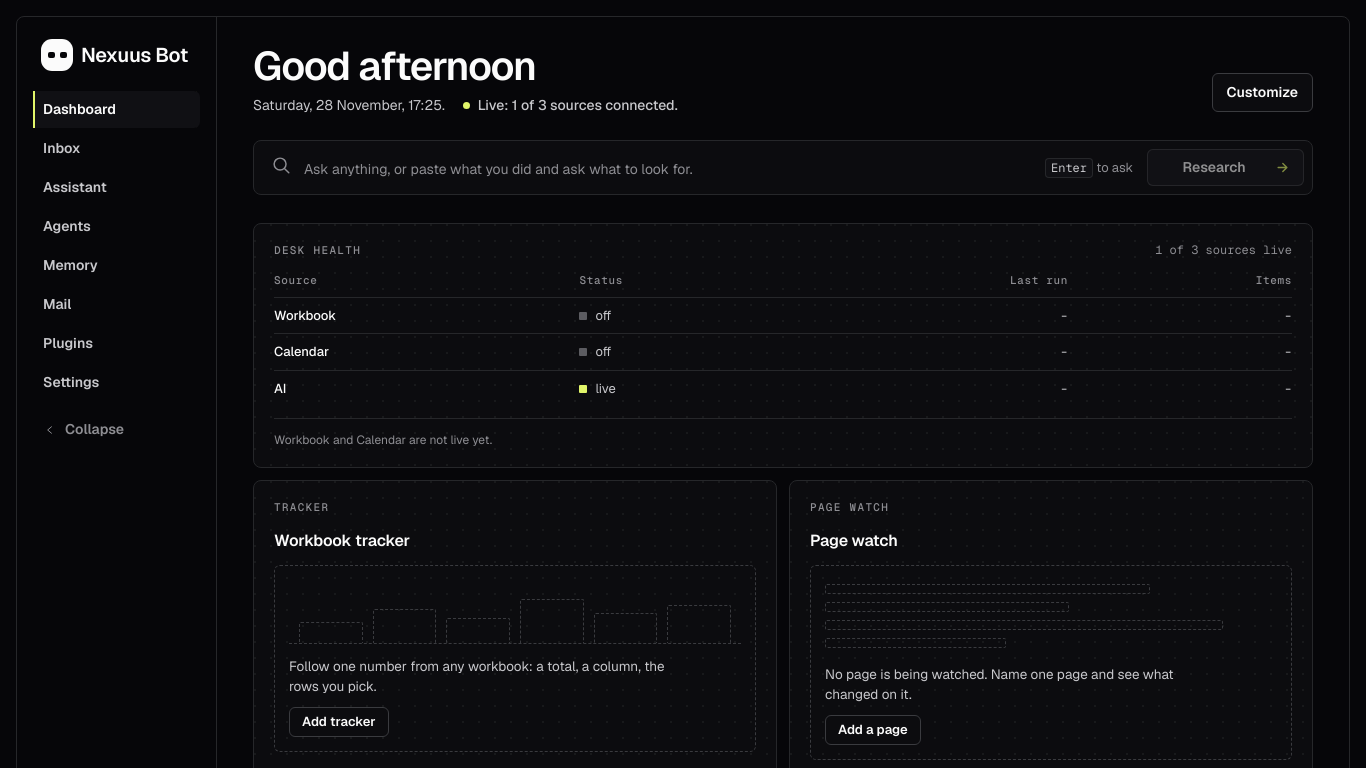
Test case: customize mode › runs a skill on its own row and fills the answer card with the same shaped placeholder
The image size is (1366, 768).
Click the button "Customize".
click(1262, 92)  # box [1212,73,1313,112]
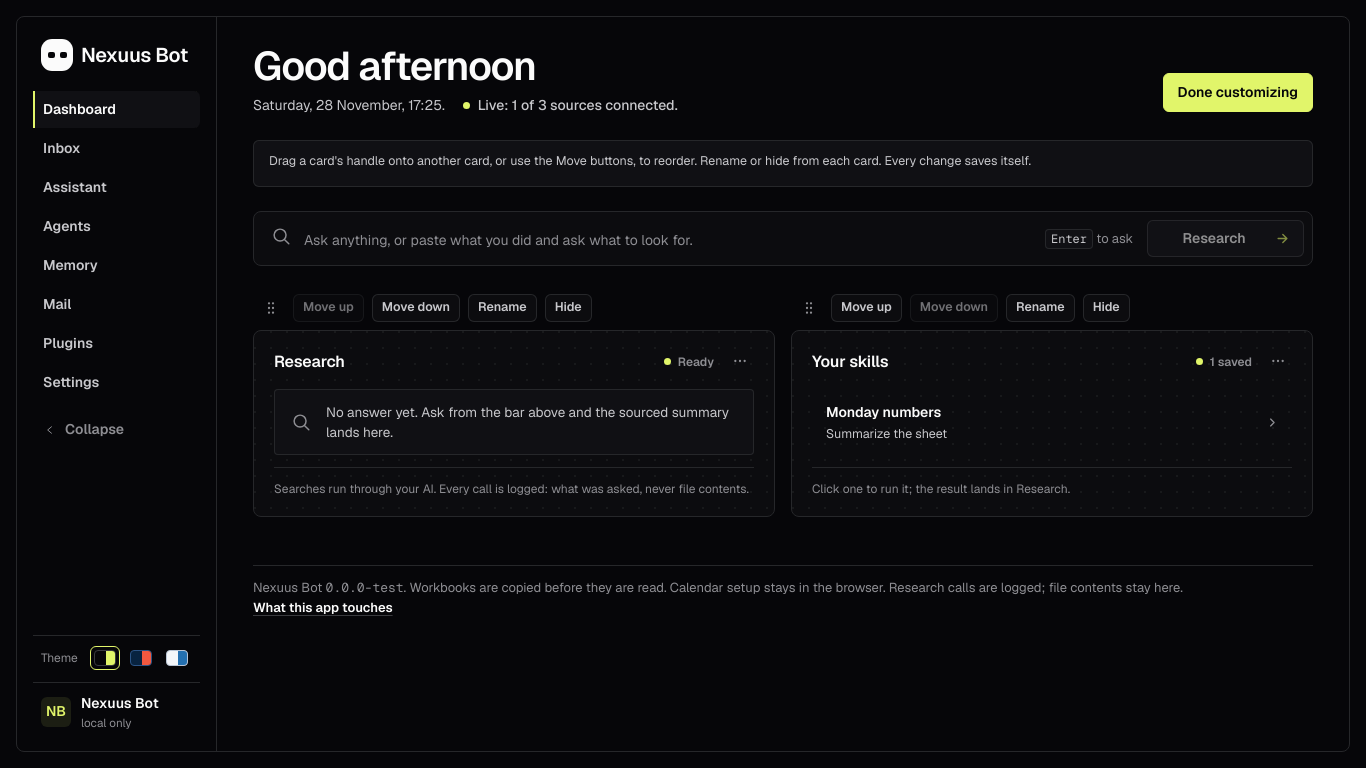
Expected: the button "Done customizing" is shown, [1163,73,1313,112]
Click the button with aria-label "Run Monday numbers".
click(884, 412)  # box [812,391,1292,455]
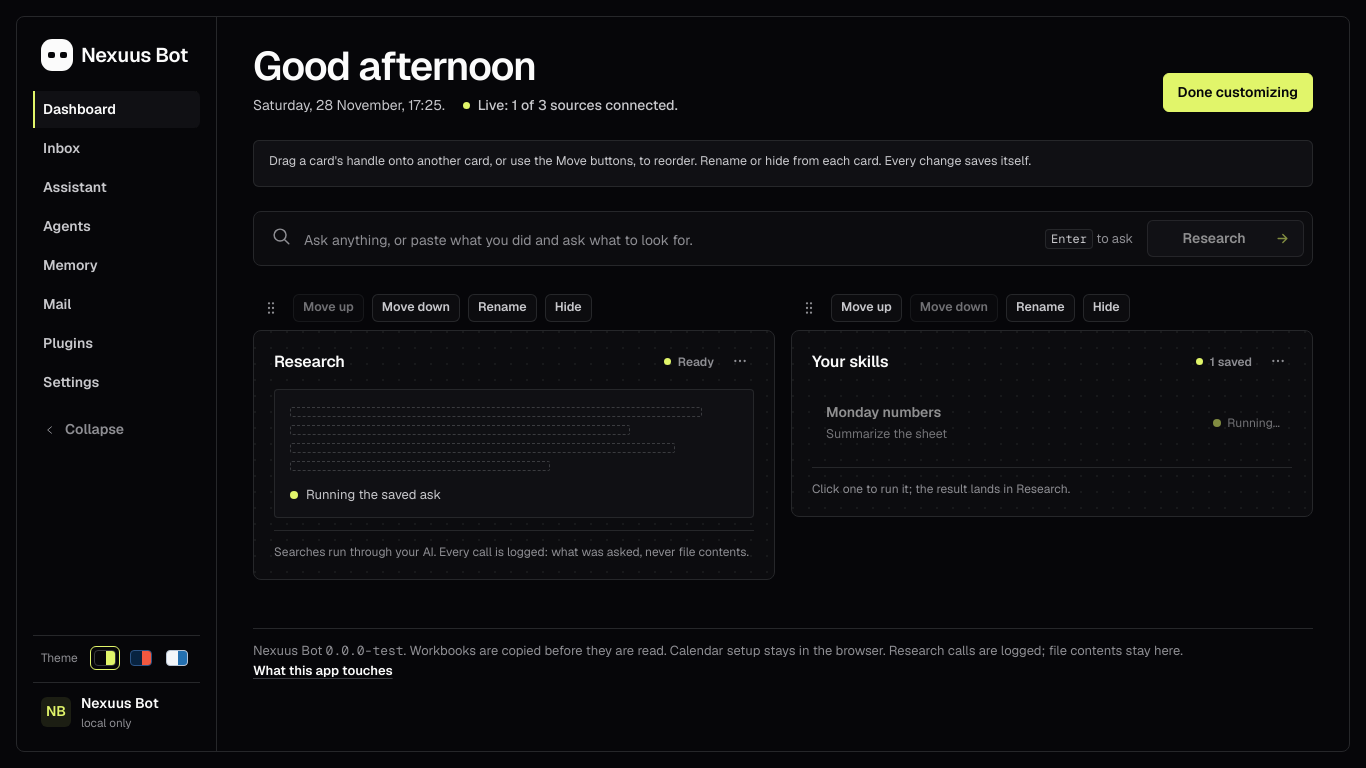
Expected: the button with aria-label "Running Monday numbers..." is disabled
Expected: the element with class "answer-pending" is shown, [274,389,754,518]
Expected: the message reads "Running the saved ask", [306,486,441,503]
Click the button with aria-label "Running Monday numbers...".
click(884, 412)  # box [812,391,1292,455]
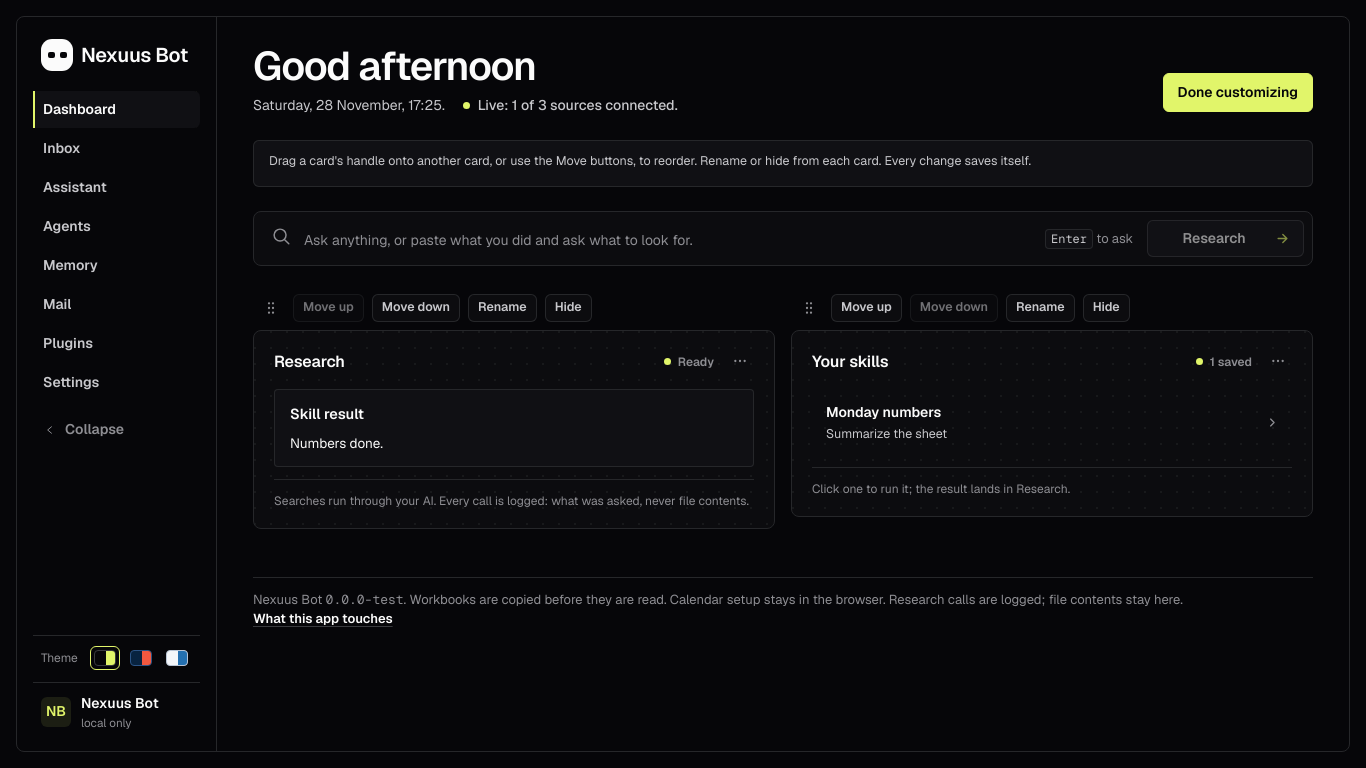
Expected: the text "Numbers done." is shown, [290,434,383,452]
Expected: the element with class "answer-pending" is gone
